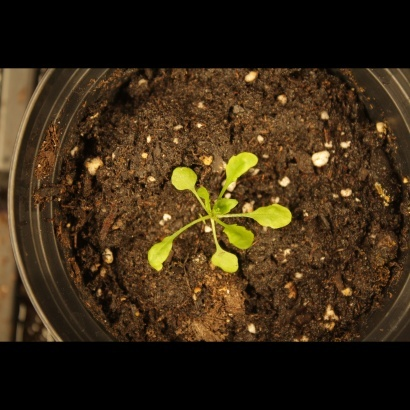leaf: (142, 228, 185, 272), (222, 146, 261, 190), (249, 201, 295, 233), (206, 246, 245, 281), (167, 157, 200, 195), (224, 222, 260, 251), (211, 195, 240, 218)
